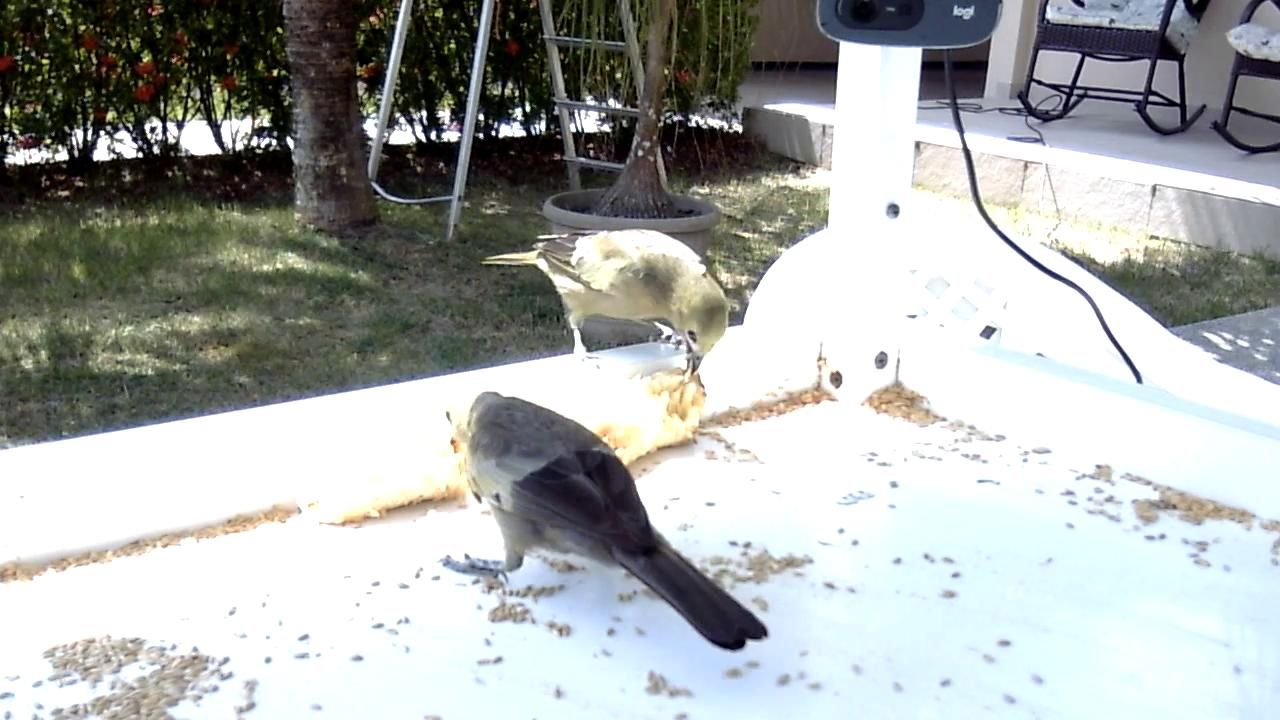sanhaco_do_coqueiro: (436, 384, 772, 657), (481, 229, 731, 378)
